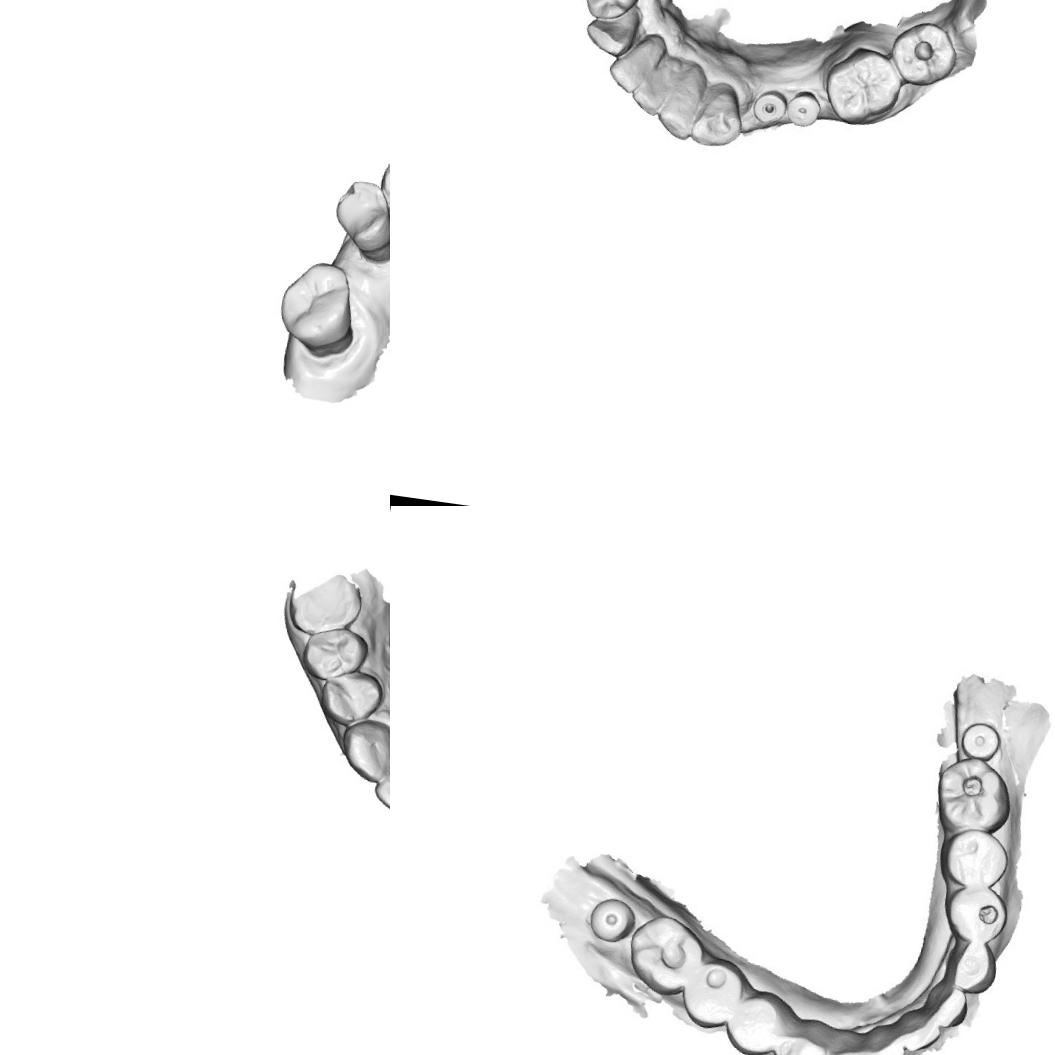canine: (336, 716, 390, 786), (689, 87, 744, 154), (942, 936, 1000, 994), (580, 8, 644, 60), (771, 1028, 834, 1055), (376, 148, 390, 220)
implant: (584, 890, 636, 949), (956, 716, 1004, 761), (751, 86, 792, 129), (785, 90, 824, 132)
incisor: (601, 34, 661, 100), (656, 70, 708, 144), (628, 48, 679, 120), (922, 980, 970, 1031), (894, 1007, 943, 1055), (370, 749, 390, 818), (863, 1024, 907, 1055), (824, 1032, 876, 1055)
molar: (272, 255, 362, 355), (622, 910, 710, 1002), (819, 41, 907, 132), (931, 754, 1014, 837), (884, 17, 962, 90)
premolar: (676, 952, 747, 1033), (939, 826, 1016, 894), (719, 984, 787, 1055), (298, 621, 372, 686), (316, 665, 386, 731), (941, 882, 1012, 946), (329, 171, 390, 242), (578, 0, 647, 25)
